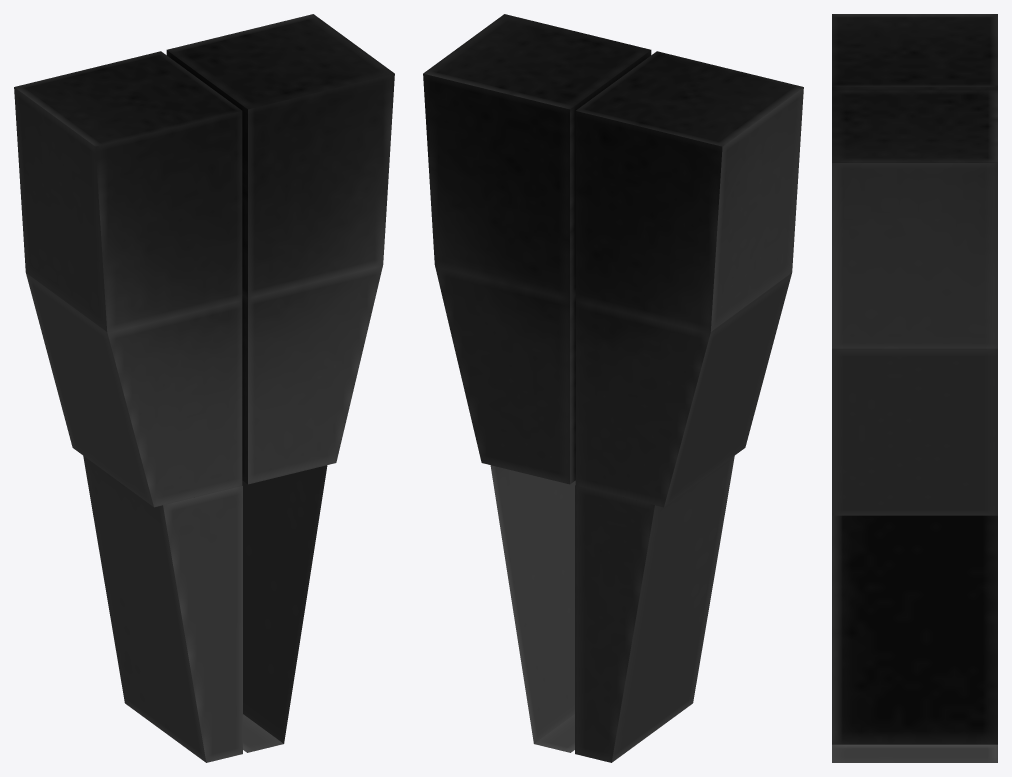
File: COLLISION-Predator.dae
3 renders of one model, left to right at view 1: azimuth 30°, elevation 25°; view 2: azimuth 150°, elevation 25°; view 3: azimuth 270°, elevation 25°, orthographic.
Visible parts, largest first — view 1: root-base-bigarm-smallarm-knuckle-clawleft.001, root-base-bigarm-smallarm-knuckle-clawright.001, root-base-bigarm-smallarm-knuckle-clawleft-tip.001, root-base-bigarm-smallarm-knuckle-clawright-tip.001; view 2: root-base-bigarm-smallarm-knuckle-clawleft.001, root-base-bigarm-smallarm-knuckle-clawright.001, root-base-bigarm-smallarm-knuckle-clawleft-tip.001, root-base-bigarm-smallarm-knuckle-clawright-tip.001; view 3: root-base-bigarm-smallarm-knuckle-clawright.001, root-base-bigarm-smallarm-knuckle-clawright-tip.001, root-base-bigarm-smallarm-knuckle-clawleft.001.
Boxes of the visible parts, x1,y1,x2,y2 form: root-base-bigarm-smallarm-knuckle-clawleft.001: (14, 51, 242, 507); root-base-bigarm-smallarm-knuckle-clawright.001: (166, 14, 394, 484); root-base-bigarm-smallarm-knuckle-clawleft-tip.001: (83, 456, 242, 762); root-base-bigarm-smallarm-knuckle-clawright-tip.001: (242, 465, 327, 752); root-base-bigarm-smallarm-knuckle-clawleft.001: (575, 51, 803, 507); root-base-bigarm-smallarm-knuckle-clawright.001: (423, 14, 651, 484); root-base-bigarm-smallarm-knuckle-clawleft-tip.001: (575, 456, 734, 762); root-base-bigarm-smallarm-knuckle-clawright-tip.001: (490, 465, 575, 752); root-base-bigarm-smallarm-knuckle-clawright.001: (832, 89, 997, 515); root-base-bigarm-smallarm-knuckle-clawright-tip.001: (832, 515, 997, 762); root-base-bigarm-smallarm-knuckle-clawleft.001: (832, 14, 997, 89).
Size of what is drawn, in the model's own units: 0.0672 by 0.0317 by 0.1381.
